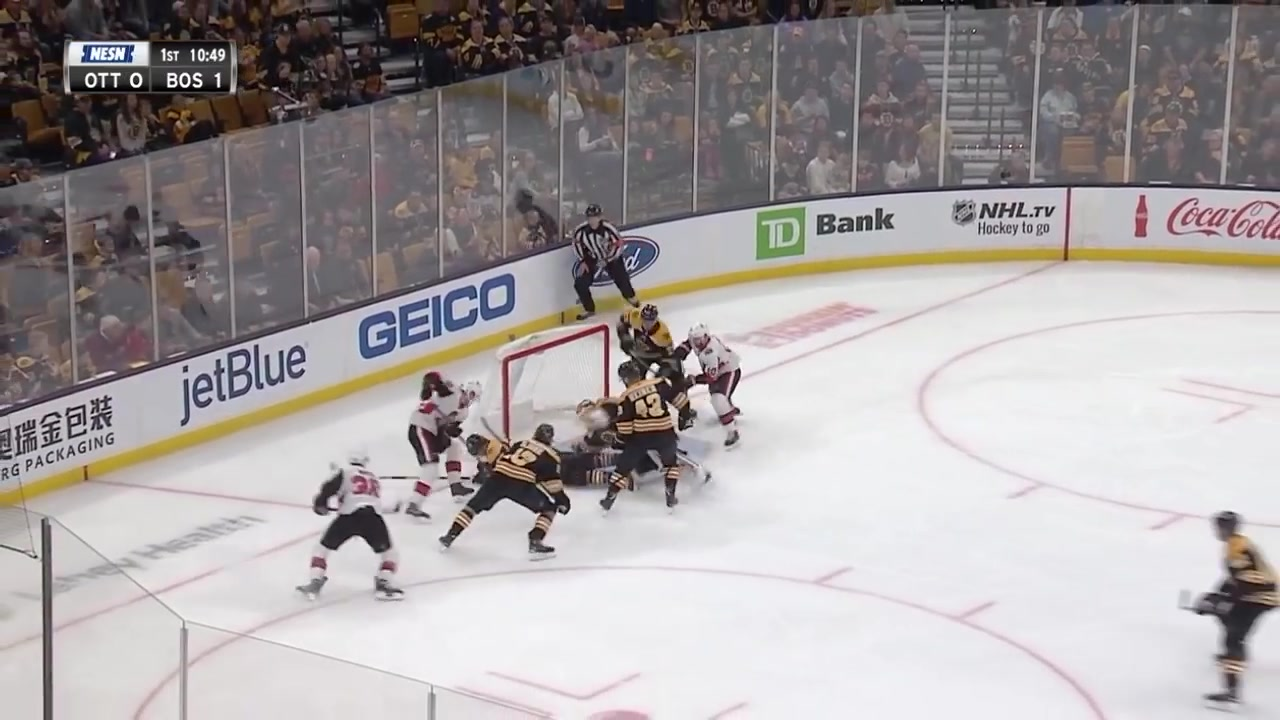geico: (341, 262, 539, 362)
